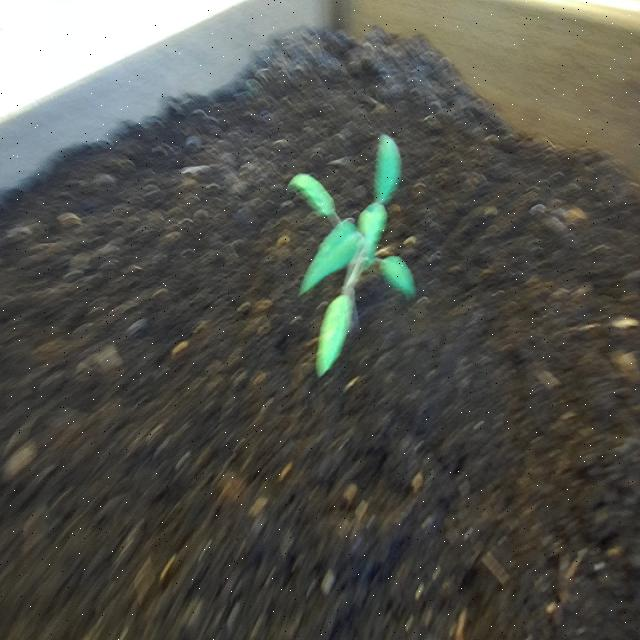Healthy: (286, 129, 422, 383)
